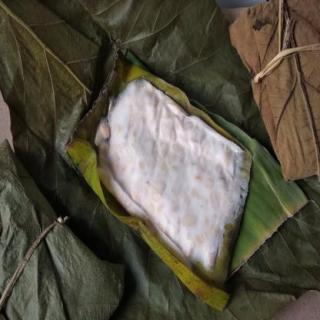Tempe: (88, 77, 249, 278)
